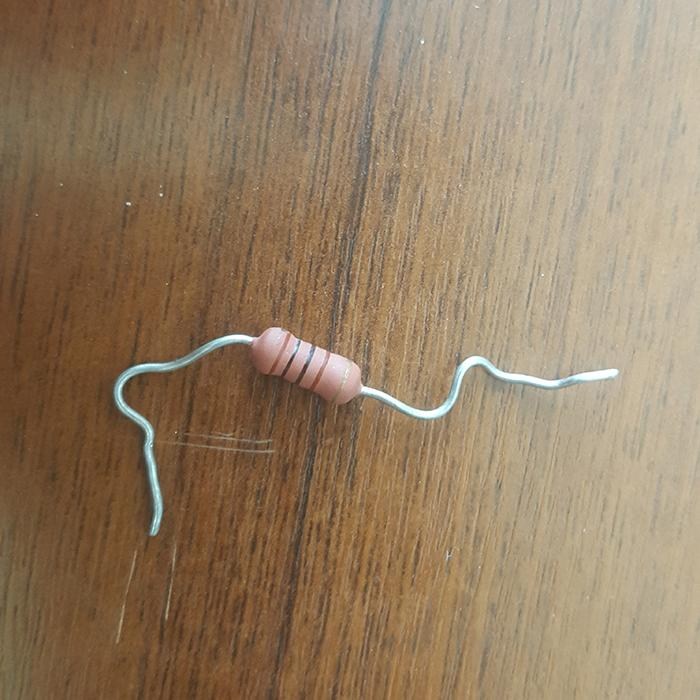resistor: (248, 326, 361, 402)
